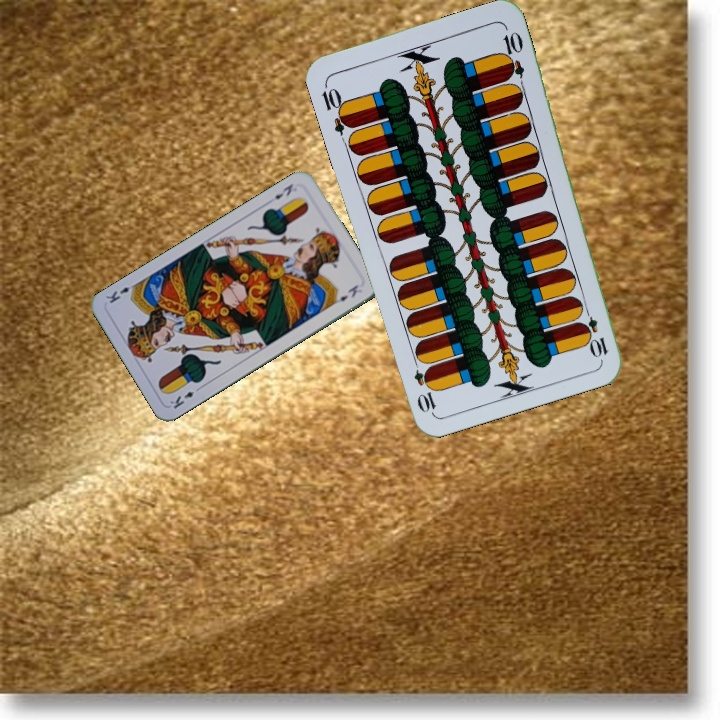E10: (317, 79, 355, 137), (578, 302, 611, 360)
EK: (165, 382, 204, 411), (270, 179, 296, 202)
